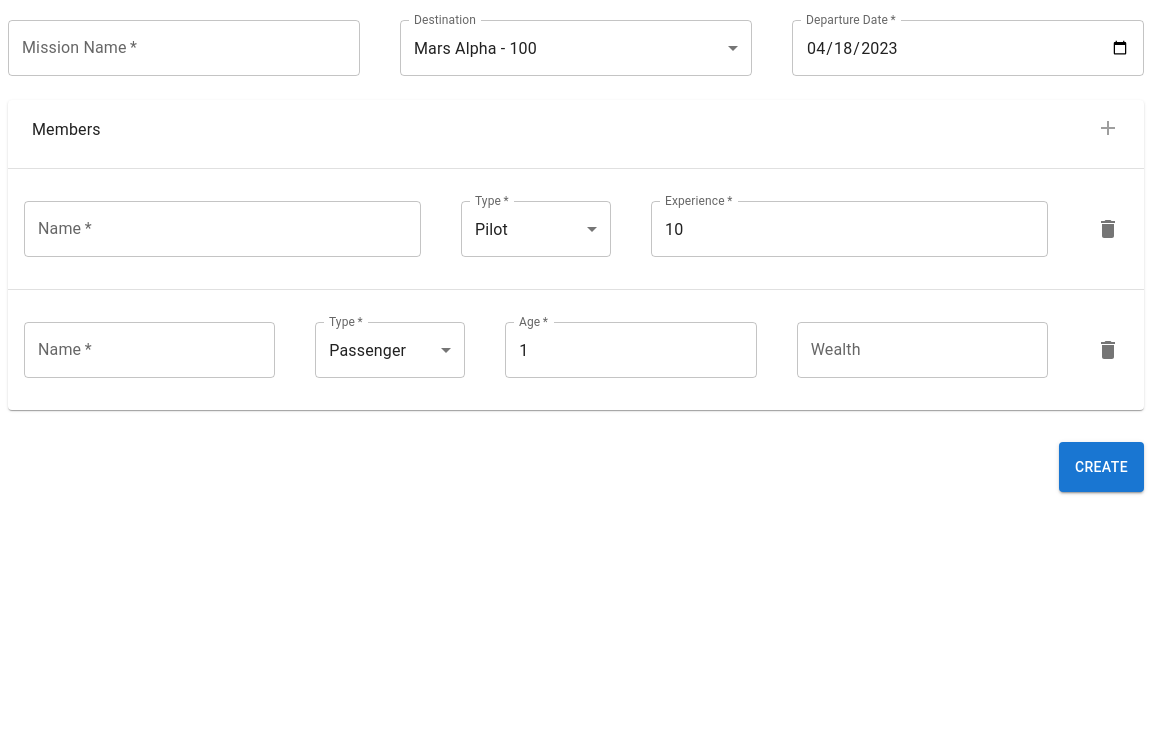
it: Tests for new mission › Mission name validations on new mission
This screenshot has width=1152, height=732.
Type "Mars Mission 01" into the field named "missionName" at x=184, y=48, box [8,20,360,76]
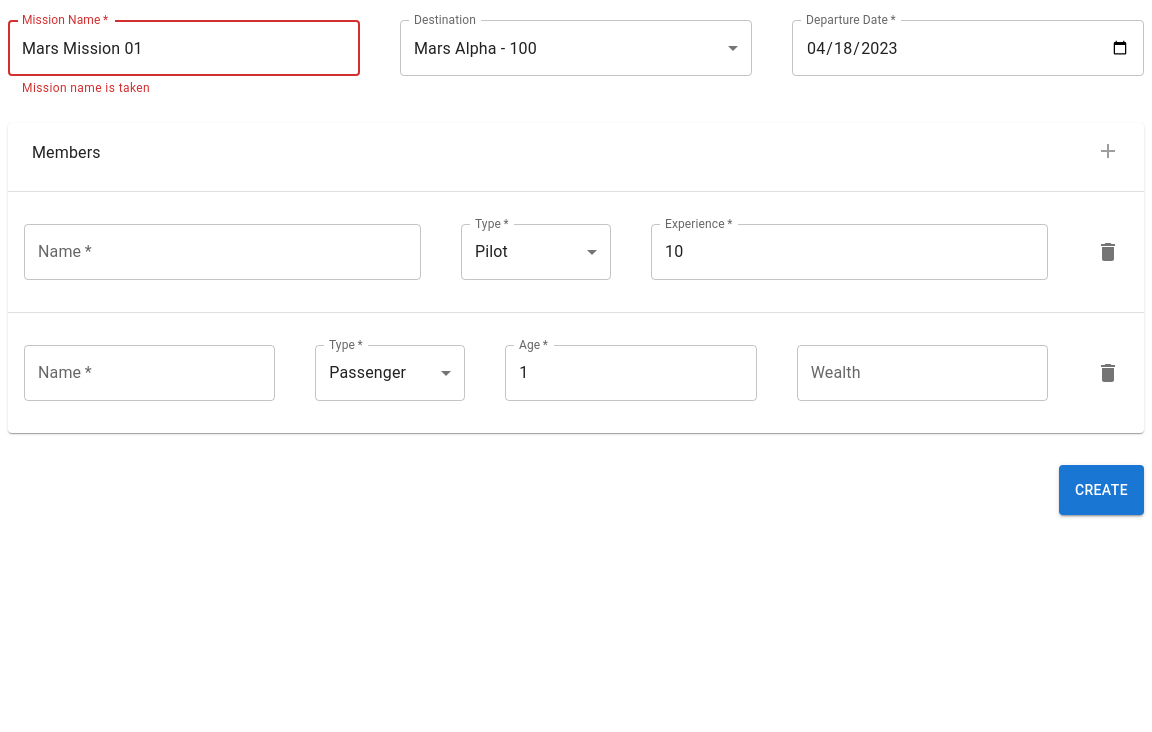
Clear the field named "missionName" at x=184, y=48, box [8,20,360,76]
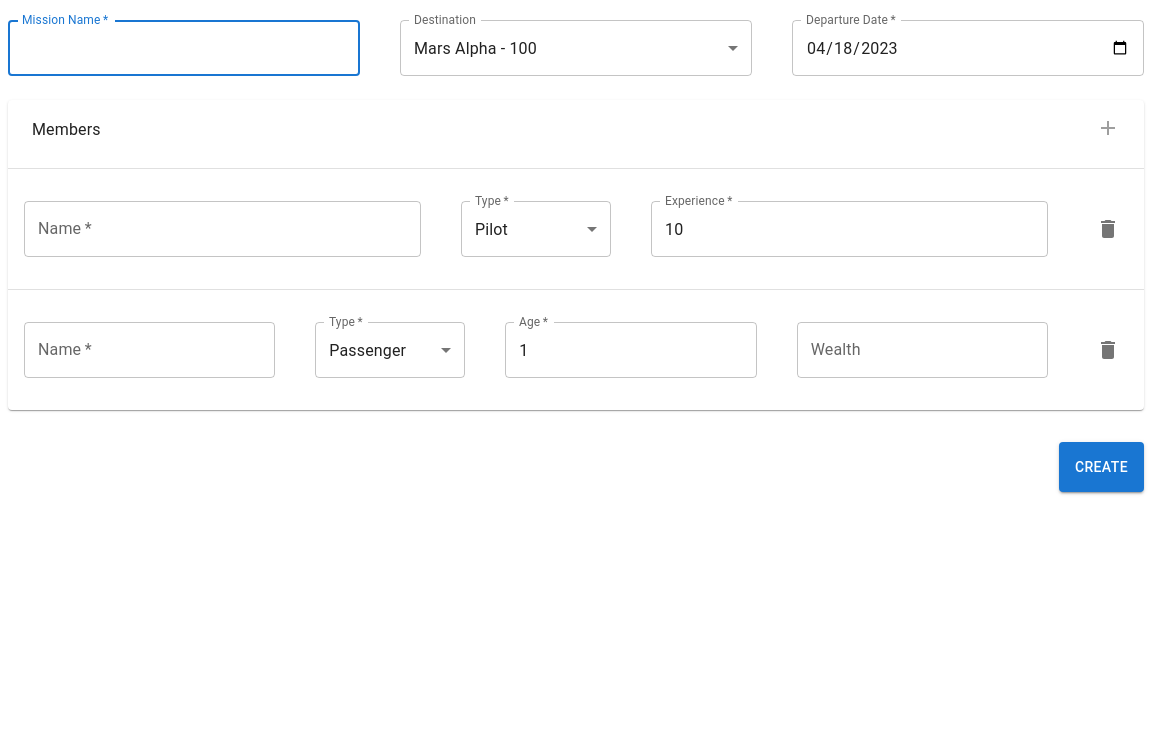
Click the submit button at x=1102, y=467, box [1059,442,1144,492]
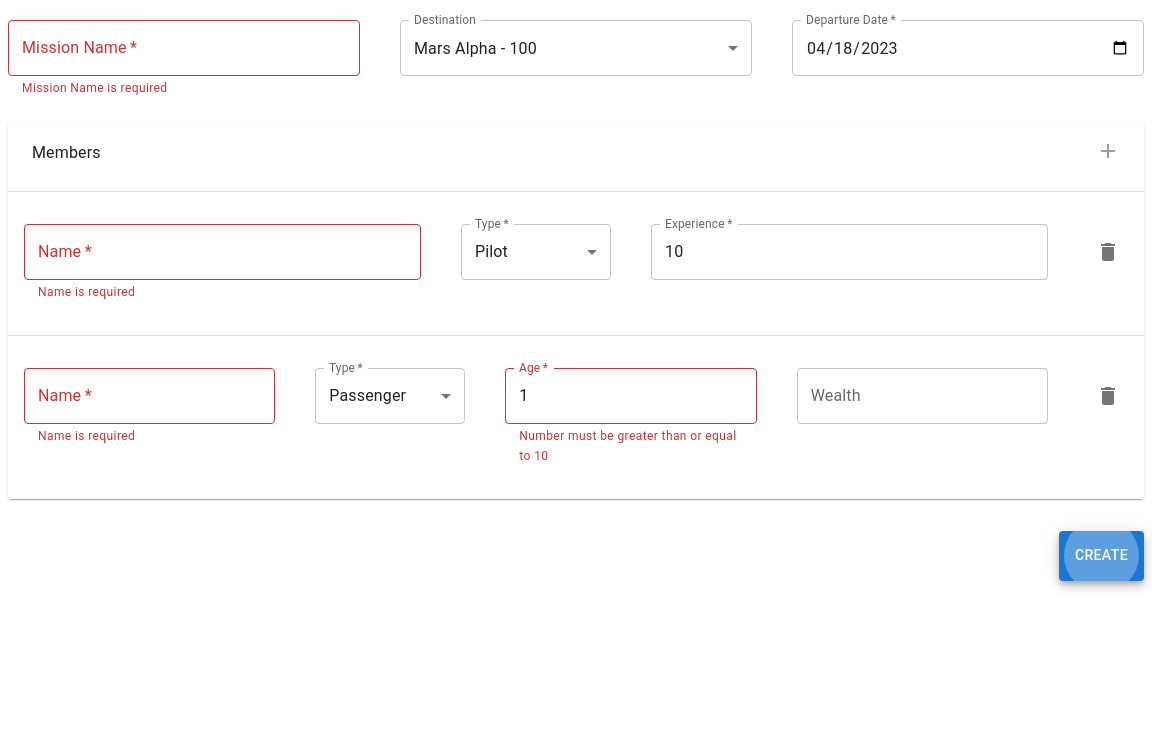
Type "avhrephzspwlbyetzsigbujimydprzcnuvfxidgqgbhxtycujw" into the field named "missionName" at x=184, y=48, box [8,20,360,76]
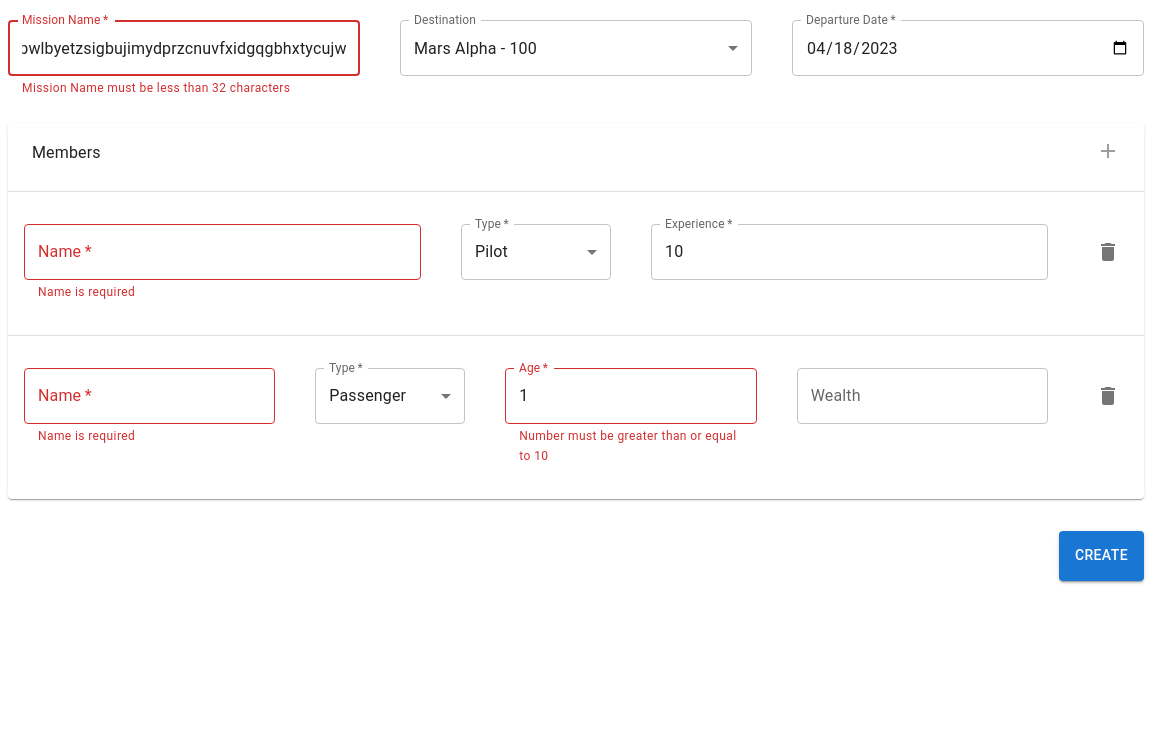
Replace the text in the field named "missionName" with "Some mission" at x=184, y=48, box [8,20,360,76]
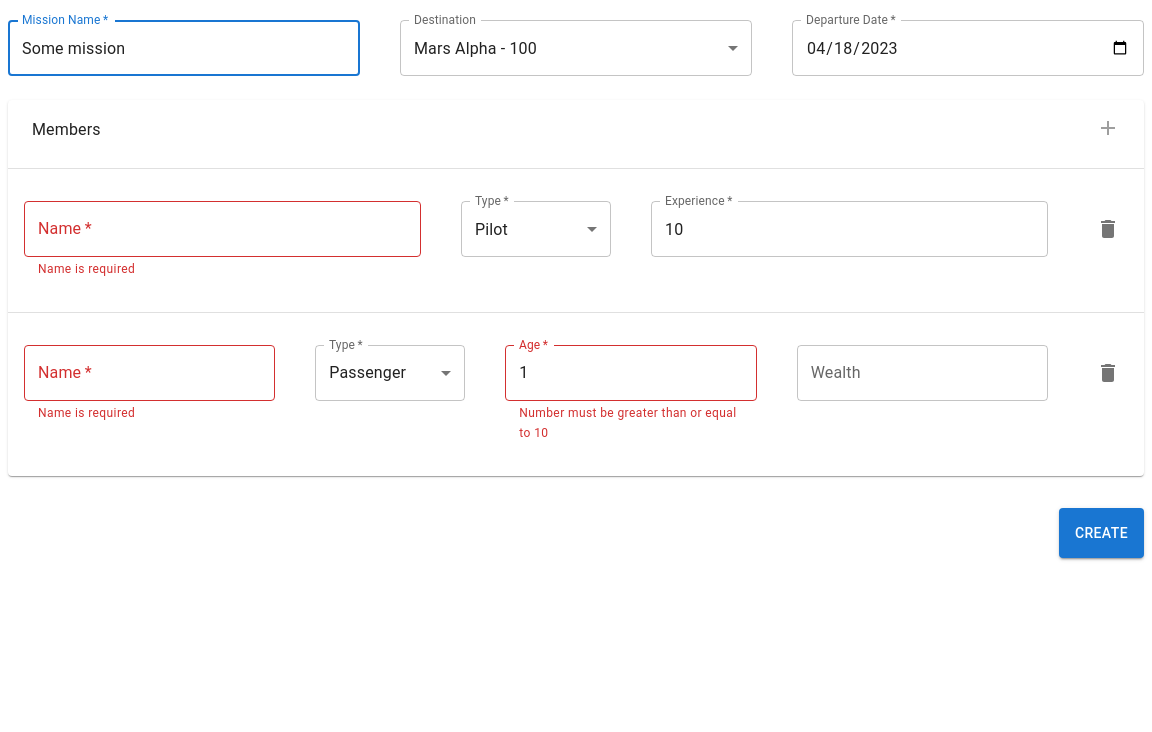
Result: the text "Mission Name must be less than 32 characters" is gone
